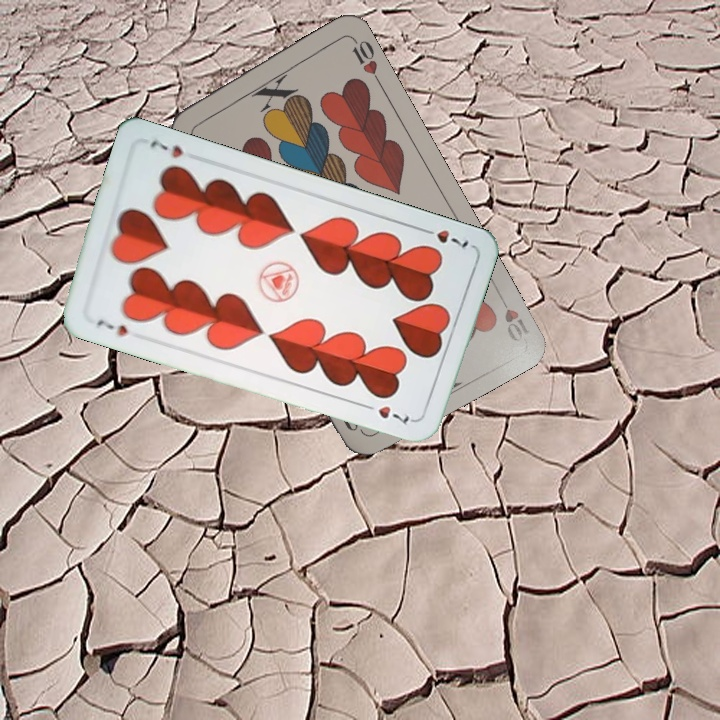H10: (493, 288, 531, 345)
H7: (416, 224, 472, 251), (93, 315, 131, 339)
